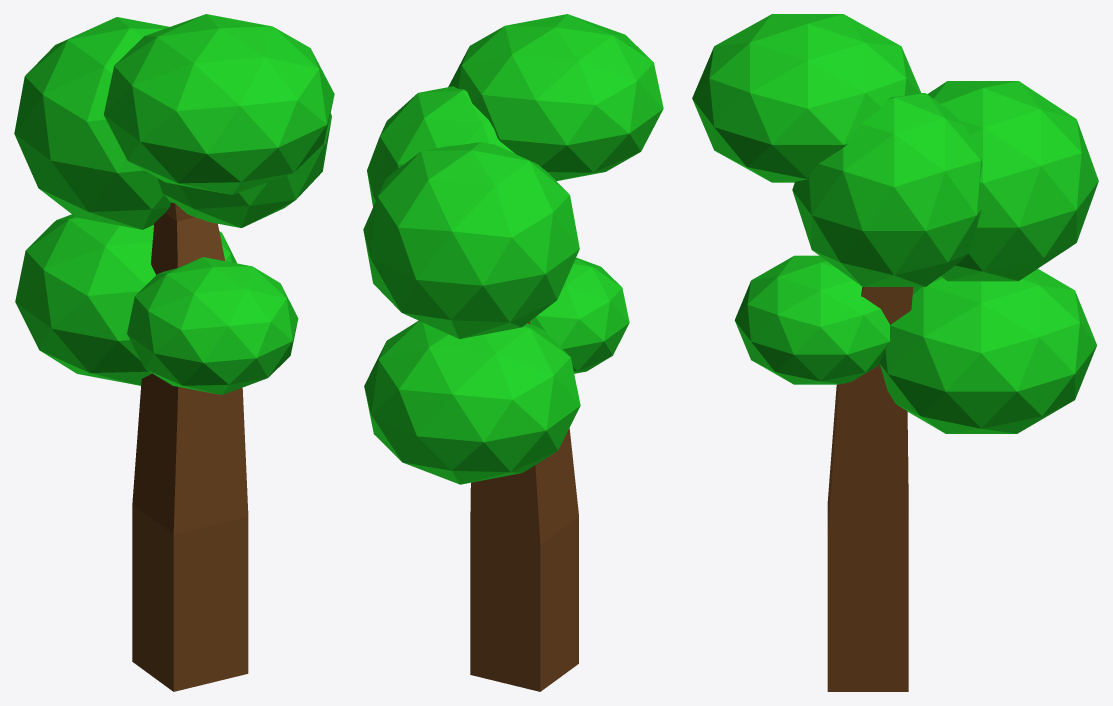
Rendered from Tree2.fbx.
3 views of the same model, side by side, from view 1: azimuth 30°, elevation 25°; view 2: azimuth 150°, elevation 25°; view 3: azimuth 270°, elevation 25° (orthographic). The views are drawn at different scales.
Visible parts, largest first — view 1: Tree2; view 2: Tree2; view 3: Tree2.
Part boxes in pixels (bbox=[...]): Tree2: bbox=[14, 14, 334, 691]; Tree2: bbox=[363, 14, 663, 691]; Tree2: bbox=[692, 14, 1098, 691].
Bounding box in the file's own units: 127 × 337 × 191.
